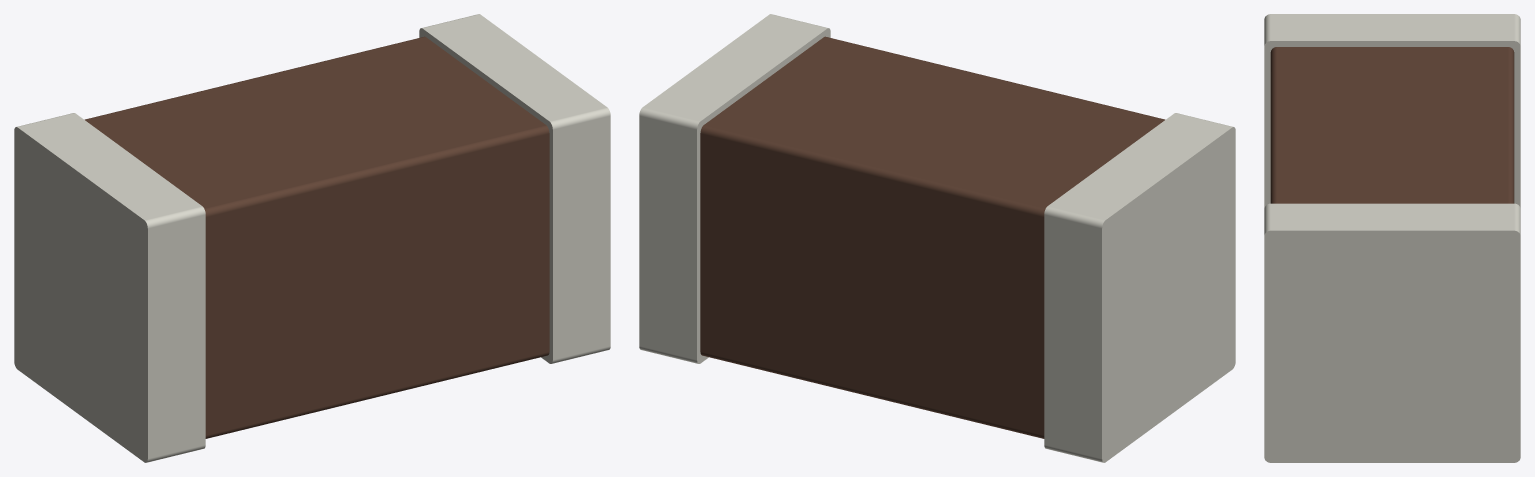
File: C_1206_3216Metric.glb
3 renders of one model, left to right at view 1: azimuth 30°, elevation 25°; view 2: azimuth 150°, elevation 25°; view 3: azimuth 270°, elevation 25°, orthographic. The views are drawn at different scales.
Parts seen in each view (by area): view 1: =>[0:1:1:3]; view 2: =>[0:1:1:3]; view 3: =>[0:1:1:3].
Part boxes in pixels (box(x1,y1,x2,y2)): =>[0:1:1:3]: box(14, 14, 610, 462); =>[0:1:1:3]: box(639, 14, 1235, 462); =>[0:1:1:3]: box(1264, 14, 1520, 462).
Bounding box in the file's own units: 0.0032 × 0.0016 × 0.0016.
